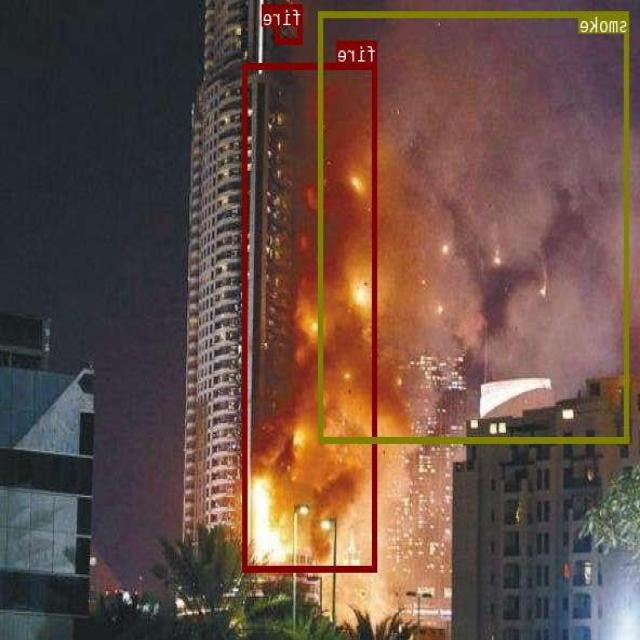fire: (244, 62, 378, 570), (276, 4, 304, 43)
smoke: (319, 11, 630, 442)
